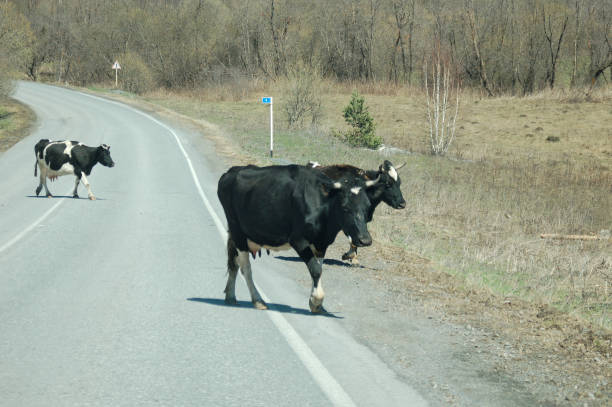inek: (213, 161, 367, 319), (28, 137, 139, 205), (318, 154, 413, 227)
